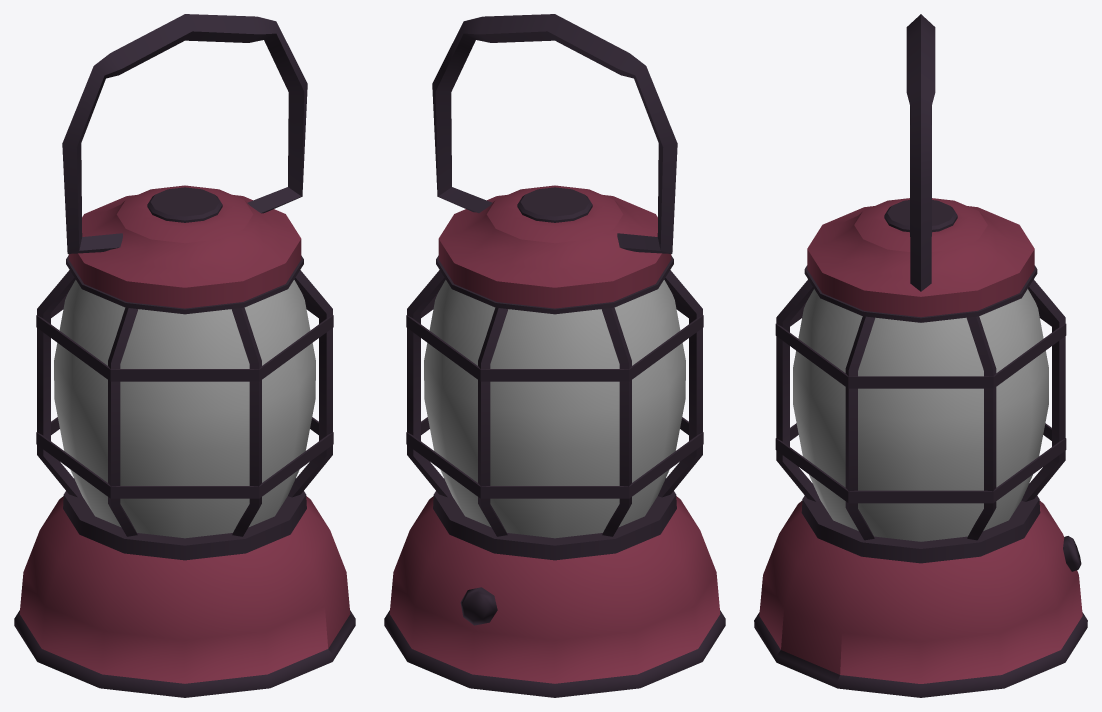
The model's file is survival_props.fbx.
3 renders of one model, left to right at view 1: azimuth 30°, elevation 25°; view 2: azimuth 150°, elevation 25°; view 3: azimuth 270°, elevation 25°, orthographic. The views are drawn at different scales.
Parts seen in each view (by area): view 1: lantern; view 2: lantern; view 3: lantern.
Part boxes in pixels (x1,y1,x2,y2): lantern: (14,14,355,697); lantern: (384,14,725,697); lantern: (754,14,1087,697).
Size of the model in its own units: 19.23 by 38.05 by 19.23.
